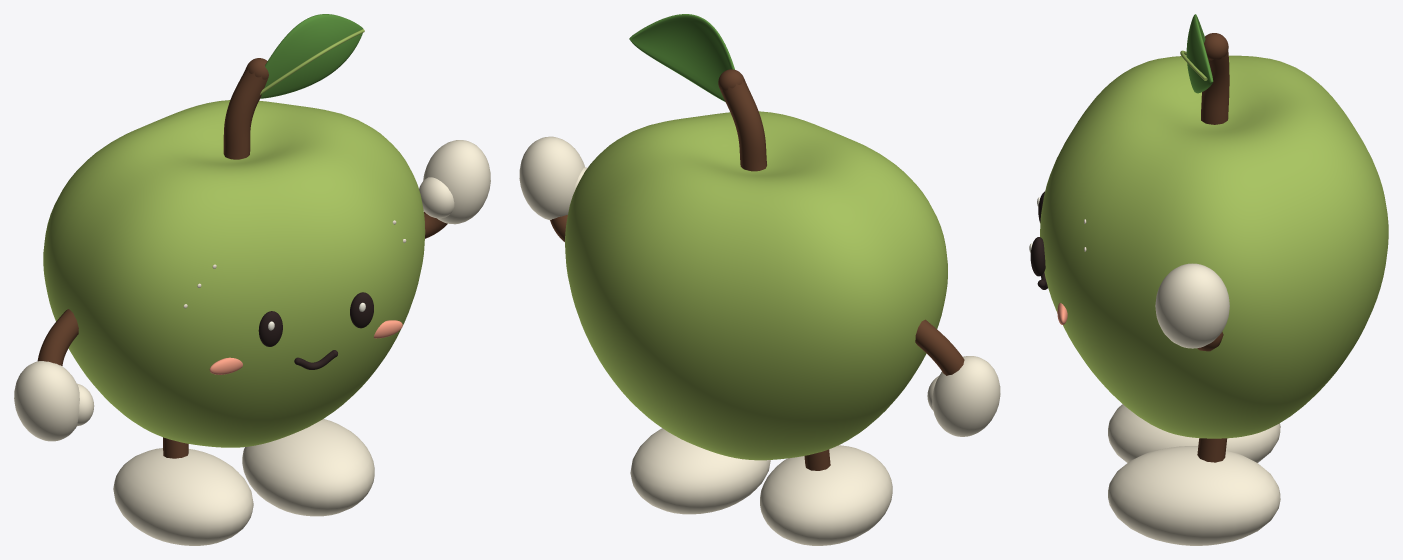
Rendered from sprout-apple-v2.glb.
The picture shows the model from 3 angles, left to right: view 1: azimuth 30°, elevation 25°; view 2: azimuth 150°, elevation 25°; view 3: azimuth 270°, elevation 25°; orthographic projection. The views are drawn at different scales.
Visible parts, largest first — view 1: Apple body, Soft shoe, Soft shoe.001, Apple leaf, Little mitten, Little mitten.001, Bent apple stem, Apple arm, Mitten thumb.001, Seed eye.001, Seed eye; view 2: Apple body, Soft shoe, Soft shoe.001, Apple leaf, Little mitten, Little mitten.001, Bent apple stem, Apple arm; view 3: Apple body, Soft shoe.001, Little mitten.001, Soft shoe, Bent apple stem, Apple leaf, Little leg.001, Rounded stem tip, Seed eye.001.
Part boxes in pixels (left/top/right/bottom): Apple body: left=43, top=100, right=425, bottom=447; Soft shoe: left=113, top=448, right=253, bottom=545; Soft shoe.001: left=242, top=419, right=374, bottom=516; Apple leaf: left=260, top=14, right=363, bottom=98; Little mitten: left=14, top=361, right=79, bottom=441; Little mitten.001: left=423, top=140, right=490, bottom=224; Bent apple stem: left=223, top=67, right=268, bottom=159; Apple arm: left=37, top=309, right=78, bottom=365; Mitten thumb.001: left=419, top=177, right=454, bottom=218; Seed eye.001: left=350, top=292, right=373, bottom=328; Seed eye: left=258, top=311, right=282, bottom=346; Apple body: left=565, top=111, right=947, bottom=460; Soft shoe: left=760, top=445, right=892, bottom=545; Soft shoe.001: left=630, top=428, right=770, bottom=514; Apple leaf: left=629, top=14, right=734, bottom=101; Little mitten: left=932, top=356, right=1000, bottom=436; Little mitten.001: left=519, top=136, right=584, bottom=220; Bent apple stem: left=720, top=79, right=766, bottom=171; Apple arm: left=915, top=319, right=964, bottom=375; Apple body: left=1040, top=55, right=1388, bottom=438; Soft shoe.001: left=1108, top=446, right=1280, bottom=545; Little mitten.001: left=1155, top=263, right=1229, bottom=348; Soft shoe: left=1108, top=404, right=1280, bottom=462; Bent apple stem: left=1201, top=50, right=1229, bottom=124; Apple leaf: left=1186, top=14, right=1213, bottom=93; Little leg.001: left=1197, top=438, right=1227, bottom=462; Rounded stem tip: left=1204, top=33, right=1228, bottom=60; Seed eye.001: left=1030, top=237, right=1045, bottom=276.
Size of the model in its own units: 1.87 by 1.86 by 1.16.
